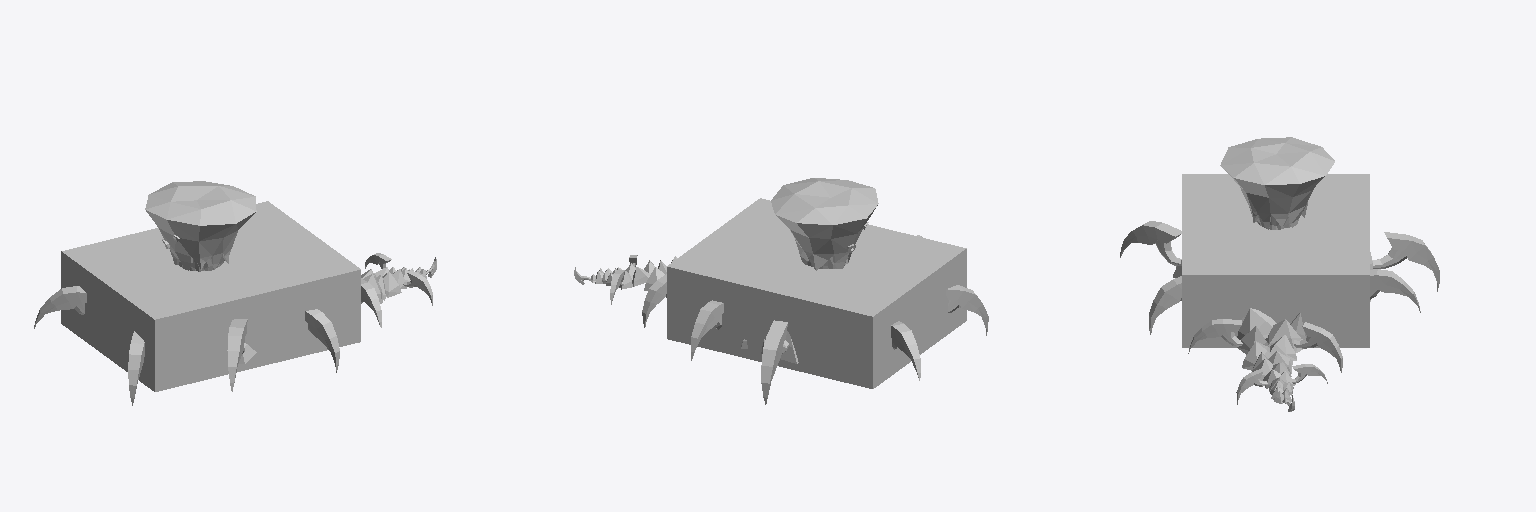
Rendered from fire enemytest_000025.obj.
3 views of the same model, side by side, from view 1: azimuth 30°, elevation 25°; view 2: azimuth 150°, elevation 25°; view 3: azimuth 270°, elevation 25° (orthographic).
Parts seen in each view (by area): view 1: Cube, head_Cylinder.078, legs_Plane.006, body_Cylinder; view 2: Cube, head_Cylinder.078, legs_Plane.006, body_Cylinder; view 3: Cube, legs_Plane.006, head_Cylinder.078, body_Cylinder.
Boxes of the visible parts, box(x1,y1,x2,y2) form: Cube: box(61, 201, 360, 391); head_Cylinder.078: box(145, 181, 256, 270); legs_Plane.006: box(34, 253, 436, 405); body_Cylinder: box(239, 267, 426, 363); Cube: box(667, 198, 966, 388); head_Cylinder.078: box(771, 178, 878, 270); legs_Plane.006: box(574, 235, 988, 404); body_Cylinder: box(589, 256, 798, 363); Cube: box(1182, 174, 1369, 347); legs_Plane.006: box(1120, 221, 1439, 411); head_Cylinder.078: box(1220, 137, 1334, 229); body_Cylinder: box(1173, 252, 1372, 403).
Bounding box in the file's own units: 17.02 × 6.47 × 12.58.